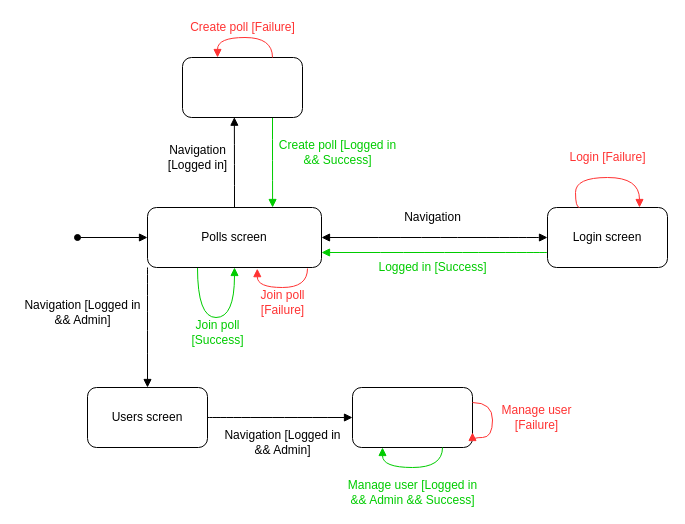
Some shapes in this 685 by 524 pixel diagram are drawn without their labels. Here are the shapes that lost their labels. From the top down, the centre of each, then its label:
At pixel 242 87: "My polls screen".
At pixel 412 417: "Manage user screen".
